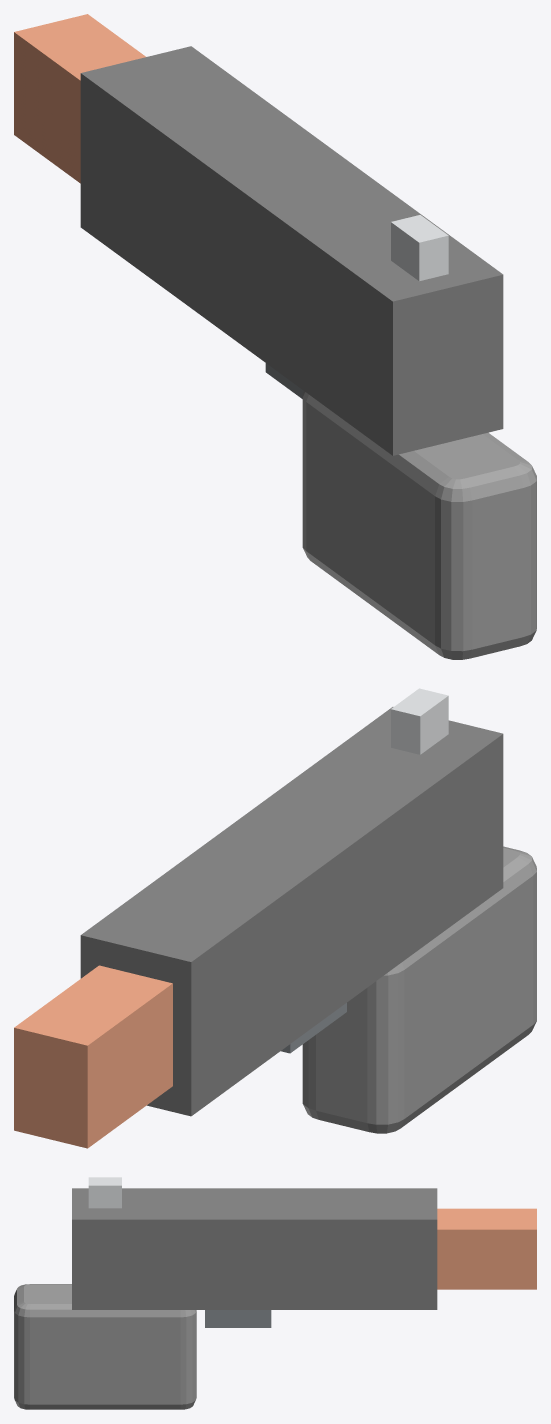
Rendered from item_tabanca.glb.
3 views of the same model, one above another, from view 1: azimuth 30°, elevation 25°; view 2: azimuth 150°, elevation 25°; view 3: azimuth 270°, elevation 25° (orthographic). The views are drawn at different scales.
Visible parts, largest first — view 1: tabanca; view 2: tabanca; view 3: tabanca.
Boxes of the visible parts, x1,y1,x2,y2 form: tabanca: [14, 14, 536, 659]; tabanca: [14, 688, 536, 1148]; tabanca: [14, 1177, 536, 1409].
Bounding box in the file's own units: 0.045 × 0.145 × 0.315.
